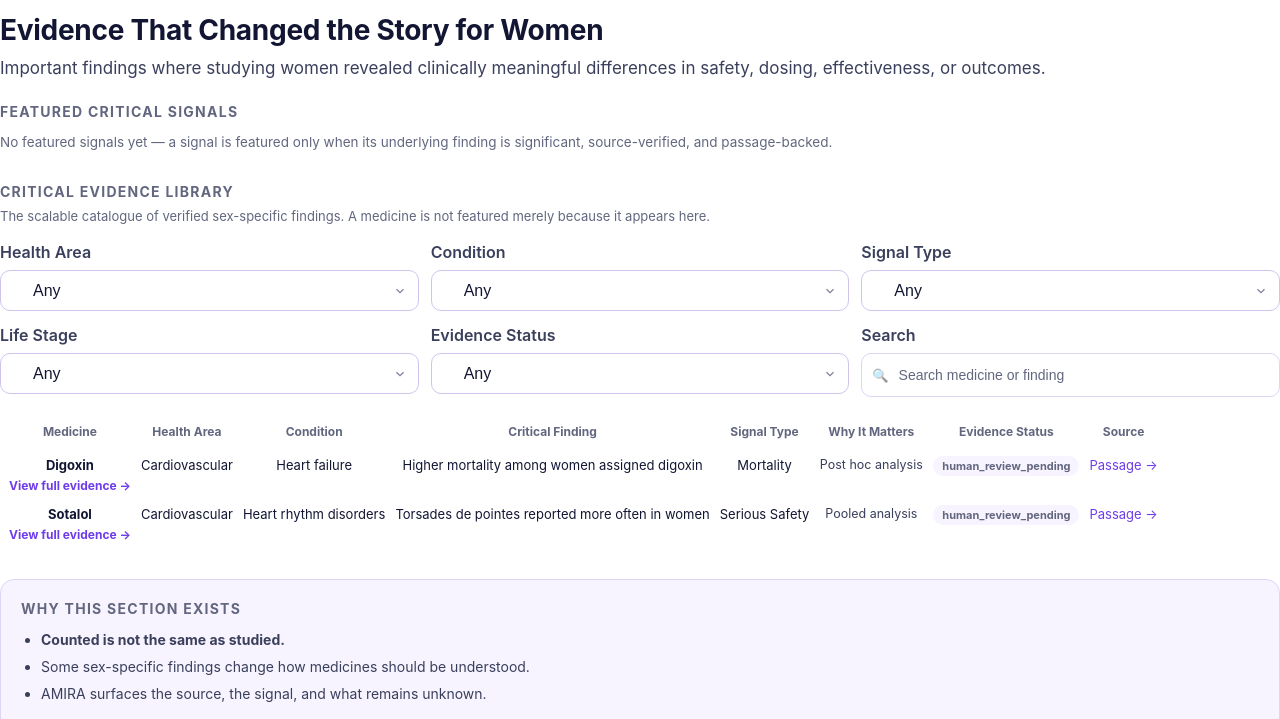
Research Map — Critical Evidence Library search › 17. Offers a clear control only when text is entered, and it resets the list
In the search field with class "cs-search-input": (1083, 375) [896,354,1269,396], type "sotalol"
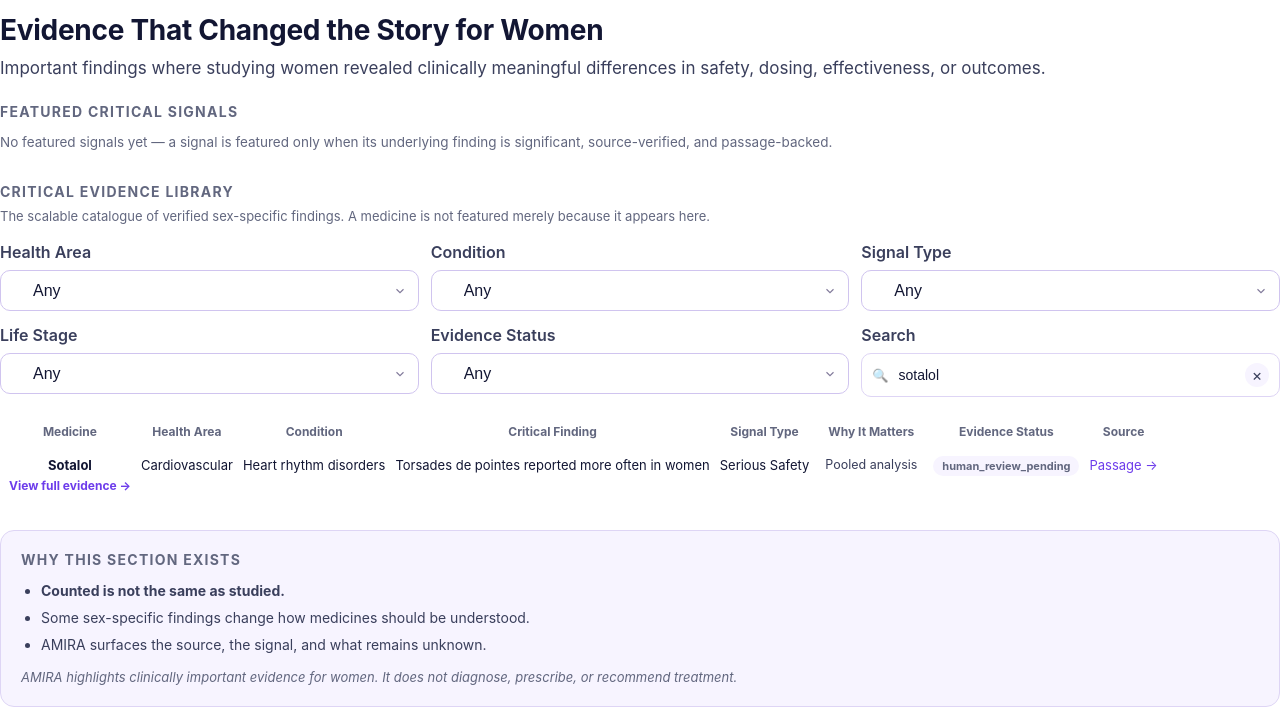
Click the button named "Clear search": (1257, 375) [1245,363,1269,387]
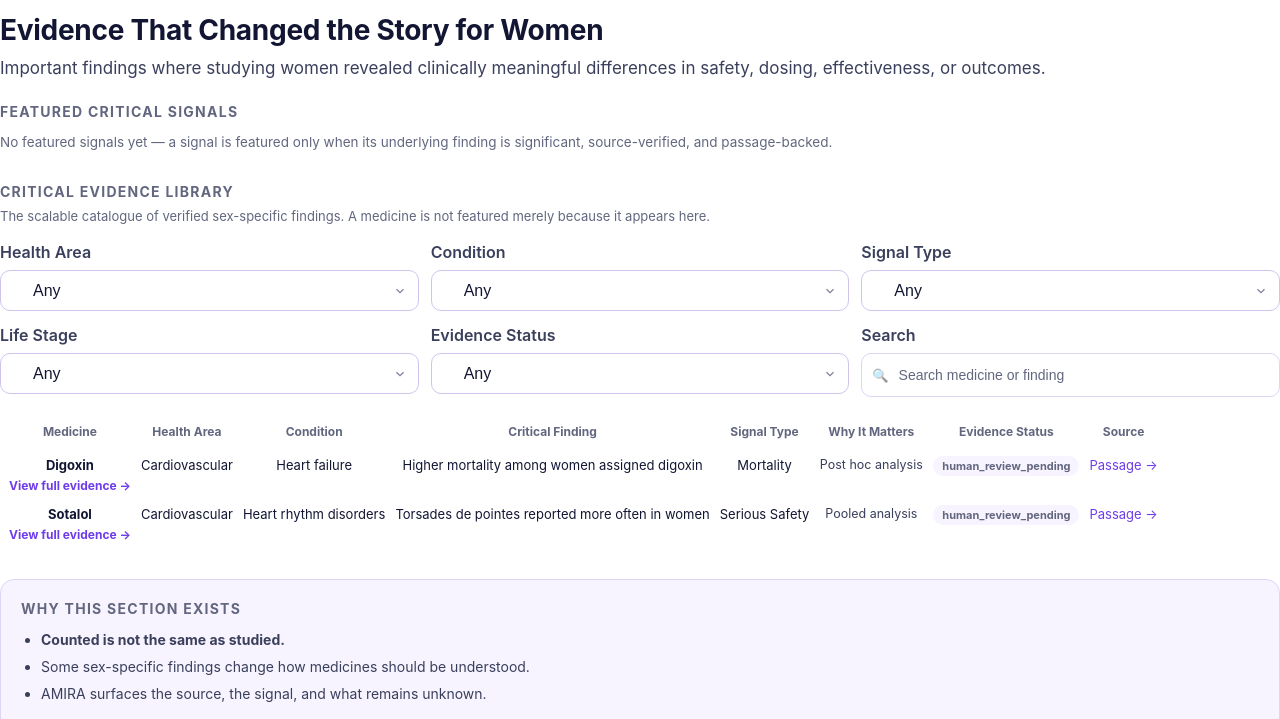
Expected: the search field labelled "Search" is empty, [896,354,1269,396]
